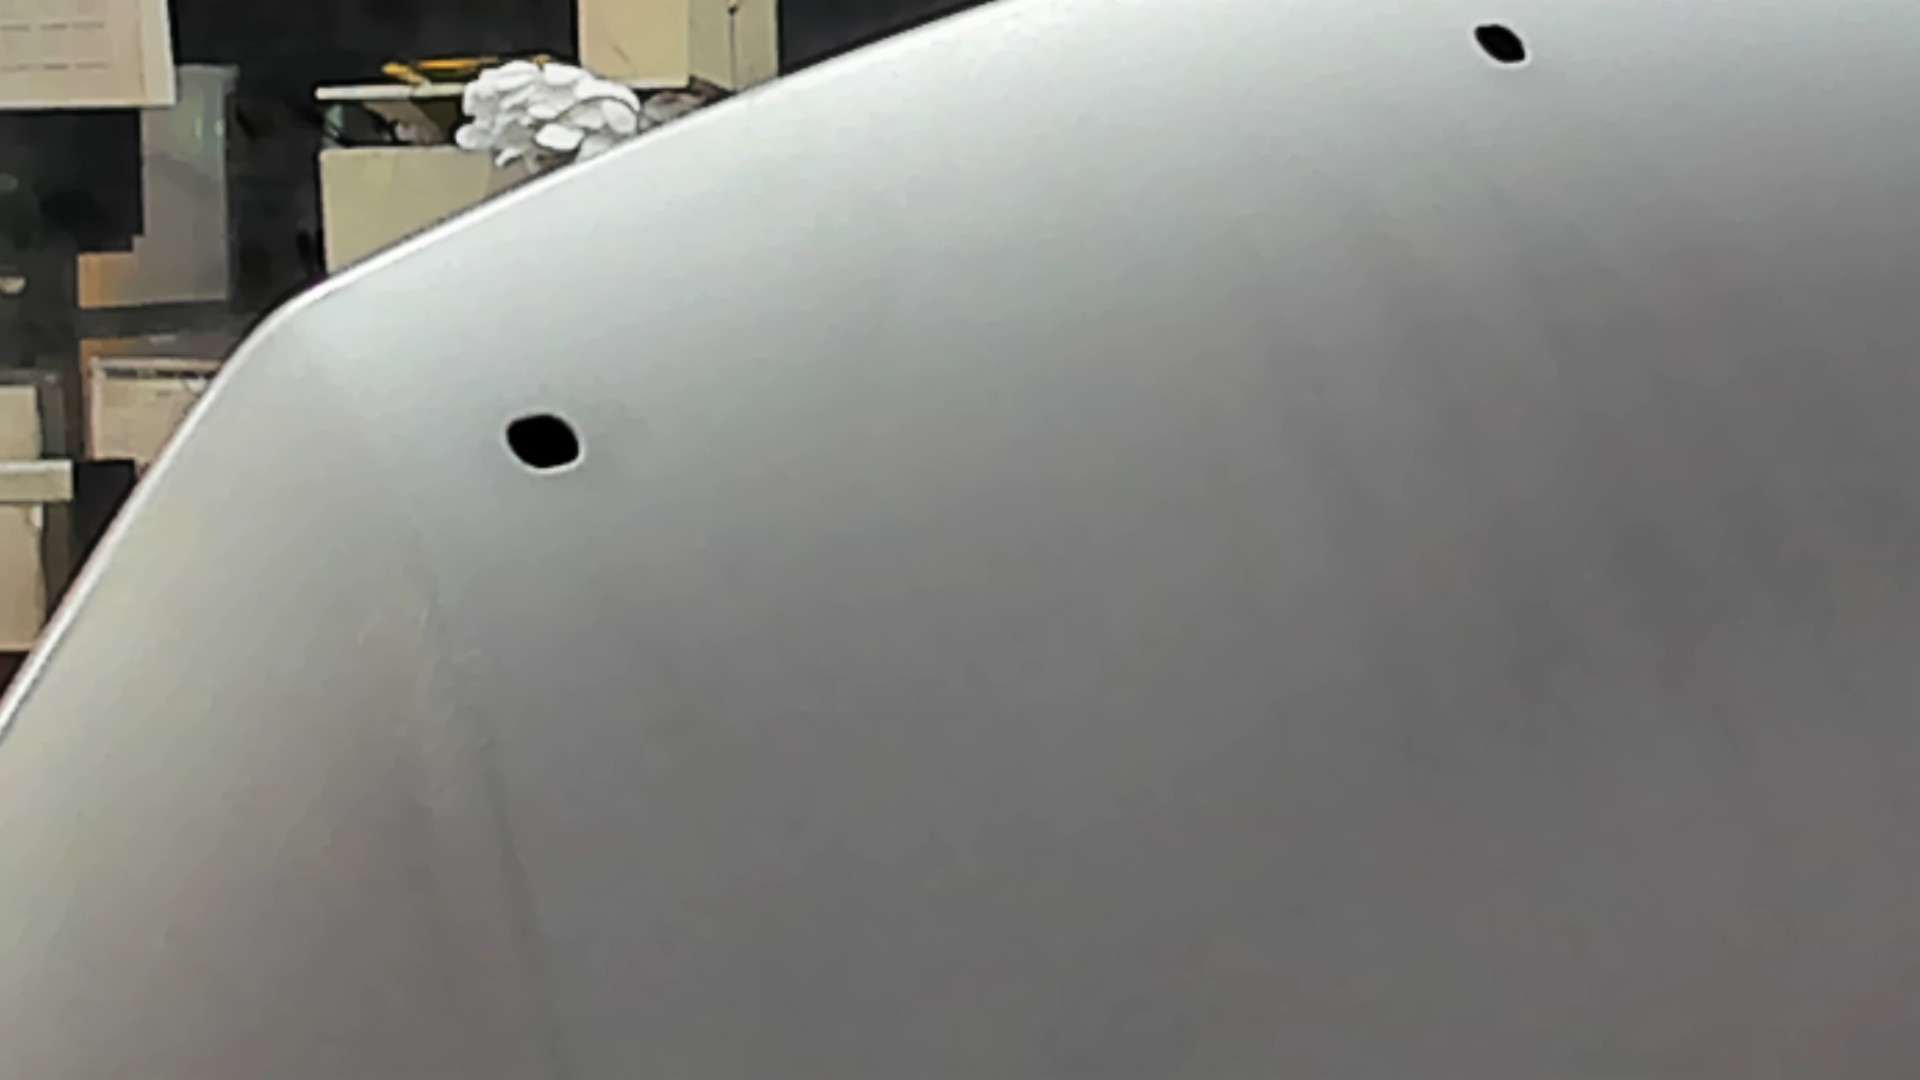Agujero: (497, 406, 592, 481), (1466, 15, 1536, 75)
